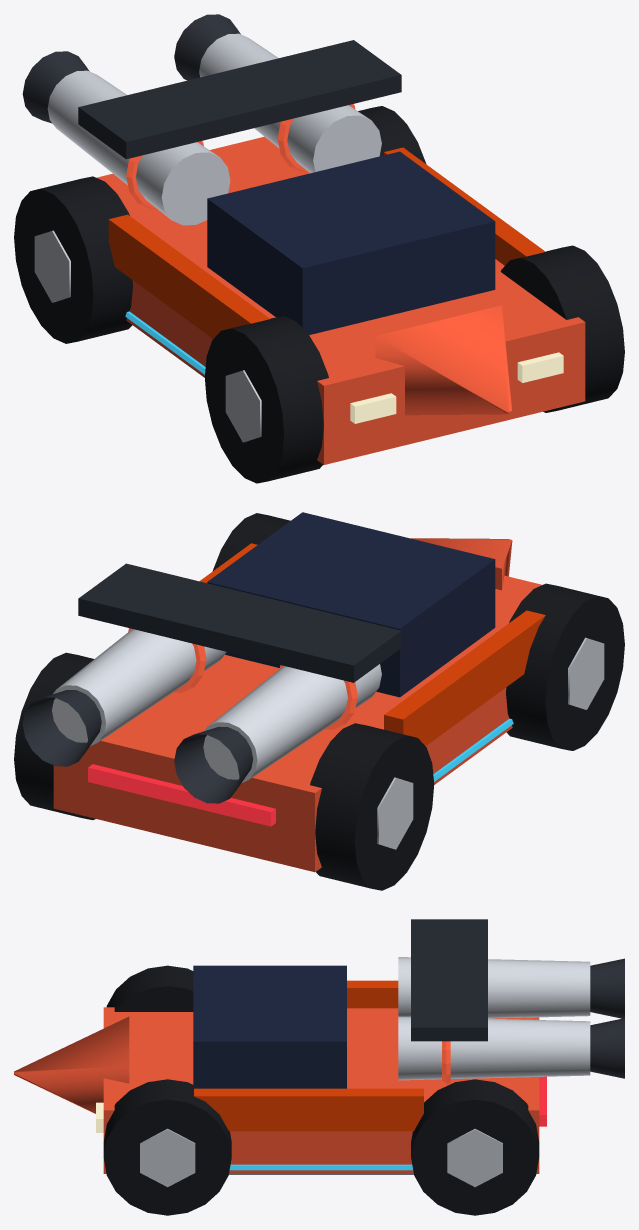
The model's file is bot_rocket.glb.
The picture shows the model from 3 angles, top to bottom: view 1: azimuth 30°, elevation 25°; view 2: azimuth 150°, elevation 25°; view 3: azimuth 270°, elevation 25°; orthographic projection. The views are drawn at different scales.
Parts seen in each view (by area): view 1: bot_rocket, object 2; view 2: bot_rocket, object 2; view 3: bot_rocket, object 2.
Boxes of the visible parts, <box> form: bot_rocket: <box>14,14,624,483</box>; object 2: <box>96,136,585,464</box>; bot_rocket: <box>14,512,624,890</box>; object 2: <box>53,575,541,872</box>; bot_rocket: <box>14,919,624,1215</box>; object 2: <box>103,1007,539,1174</box>.
Bounding box in the file's own units: 2.5 × 1.51 × 4.77.
3 materials, 3 textured.
